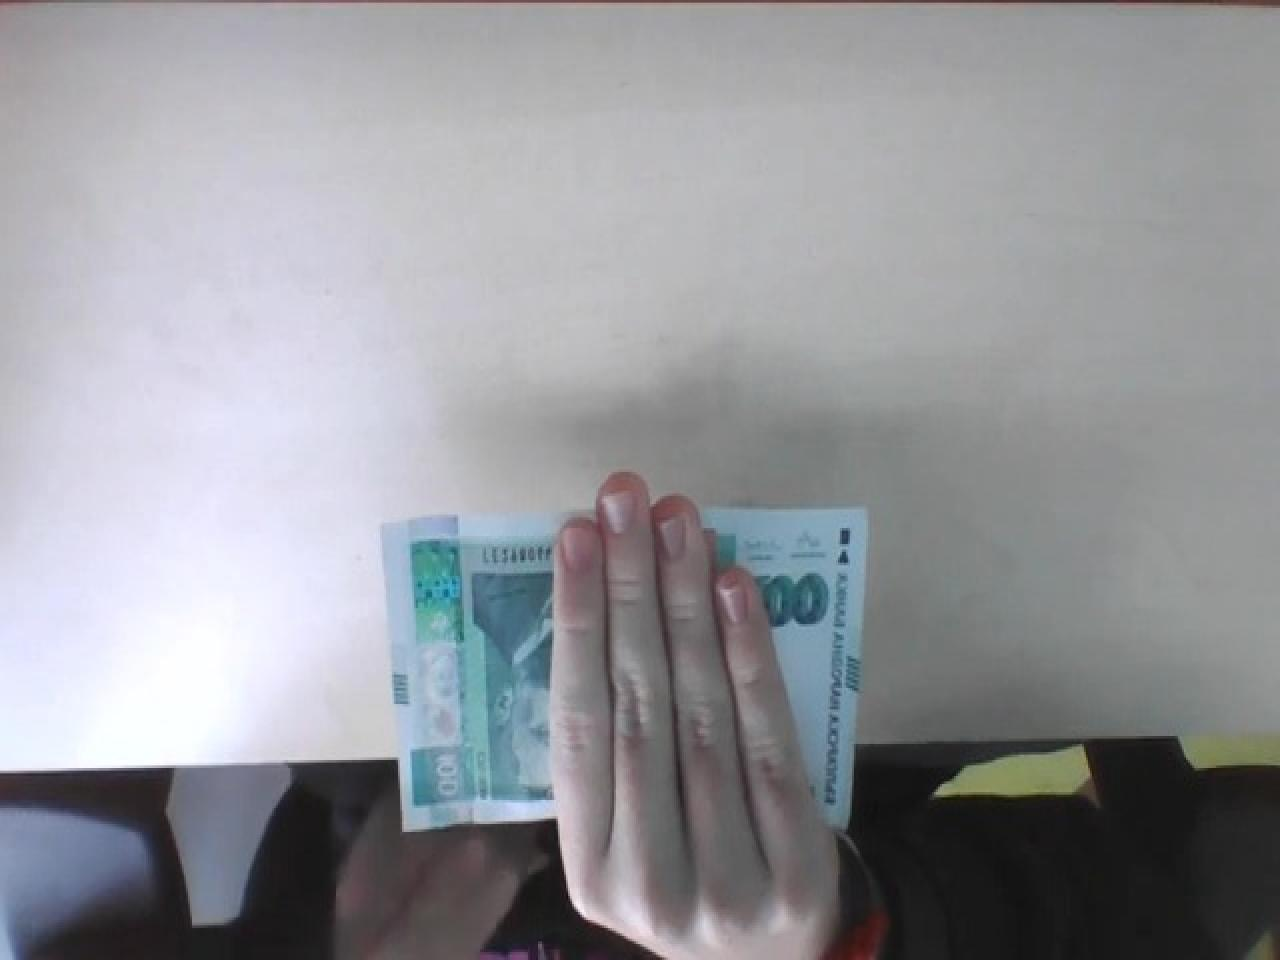100leva: (380, 501, 870, 838), (468, 571, 556, 801)
